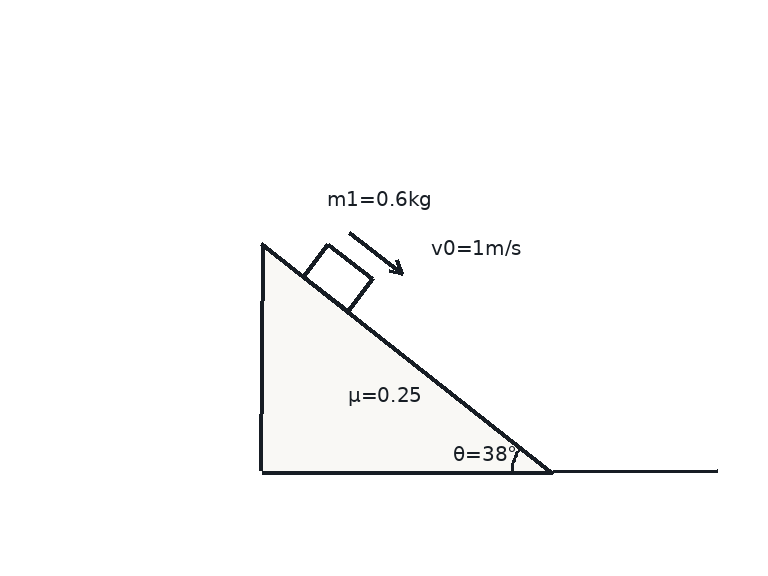block: (301, 243, 374, 313)
ramp: (259, 242, 554, 473)
